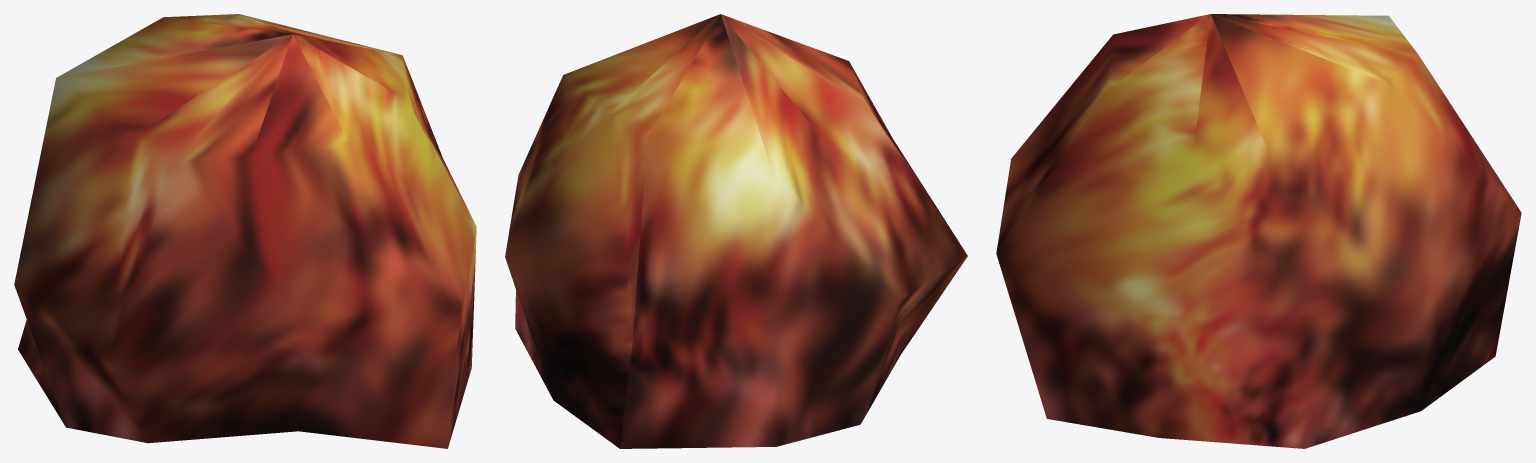
The model's file is effect_yunshi.FBX.
3 renders of one model, left to right at view 1: azimuth 30°, elevation 25°; view 2: azimuth 150°, elevation 25°; view 3: azimuth 270°, elevation 25°, orthographic. The views are drawn at different scales.
Visible parts, largest first — view 1: effect_yunshi; view 2: effect_yunshi; view 3: effect_yunshi.
Boxes of the visible parts, <box> form: effect_yunshi: <box>14,14,476,448</box>; effect_yunshi: <box>505,14,967,448</box>; effect_yunshi: <box>996,14,1521,448</box>.
Bounding box in the file's own units: 21.16 × 17.93 × 22.96.
